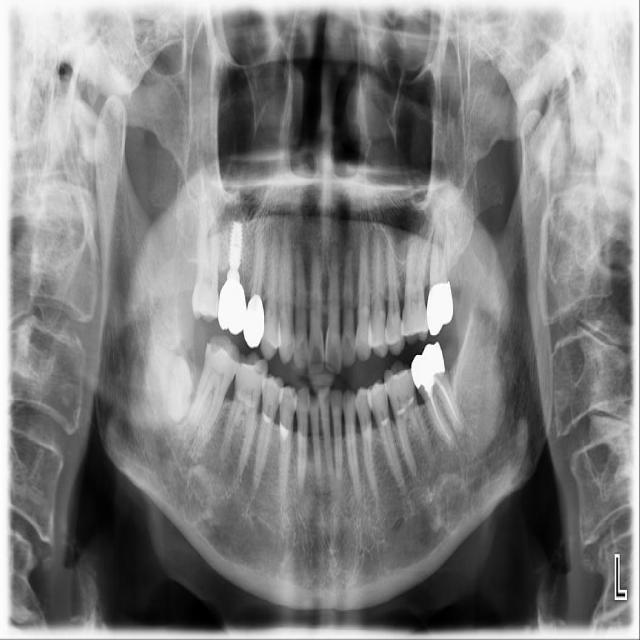52: (402, 340, 458, 401), (217, 279, 247, 334), (243, 294, 264, 349)
73: (416, 374, 472, 451)
BioHorizons Implant: (425, 221, 457, 338)
Blue Sky Bio Implant: (404, 341, 471, 453)
Caries: (190, 204, 220, 323)
Implant: (183, 332, 245, 443)
Keystone Dental Implant: (137, 336, 201, 423)
